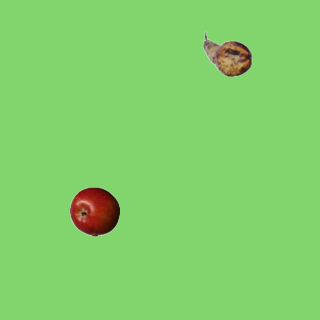Apple Braeburn: (69, 186, 119, 236)
Pear Abate: (202, 29, 252, 79)
